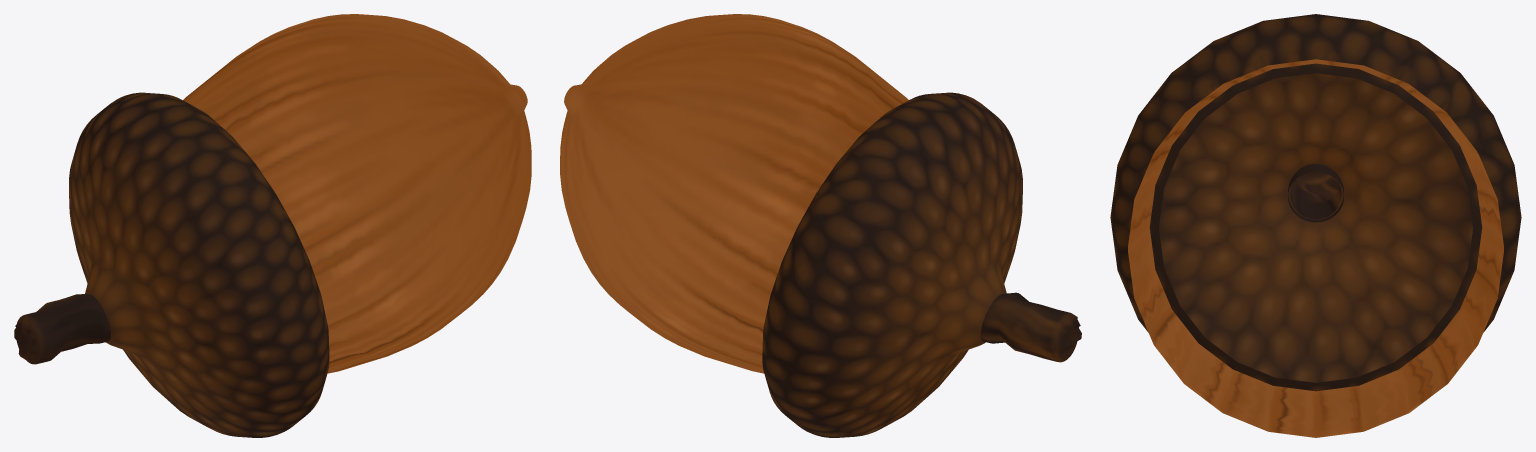
File: Acorn.fbx
3 views of the same model, side by side, from view 1: azimuth 30°, elevation 25°; view 2: azimuth 150°, elevation 25°; view 3: azimuth 270°, elevation 25° (orthographic). The views are drawn at different scales.
Visible parts, largest first — view 1: ACORN__4; view 2: ACORN__4; view 3: ACORN__4.
Part boxes in pixels (x1,y1,x2,y2): ACORN__4: (14,14,531,437); ACORN__4: (560,14,1081,437); ACORN__4: (1110,14,1521,437).
Size of the model in its own units: 43.11 by 29.61 by 27.6.
